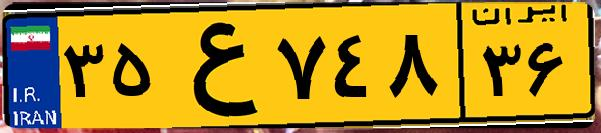3: (57, 26, 110, 100), (475, 38, 525, 113)
4: (330, 28, 385, 110)
5: (110, 28, 158, 98)
6: (525, 38, 570, 115)
7: (270, 28, 330, 110)
8: (385, 28, 445, 110)
ع: (158, 12, 270, 120)
